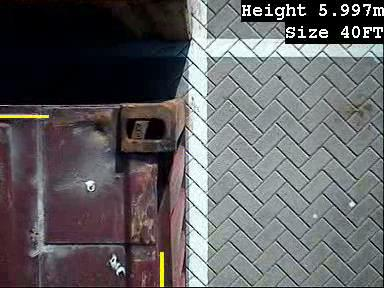groundmarker_2: (151, 58, 196, 95), (149, 207, 194, 244)
